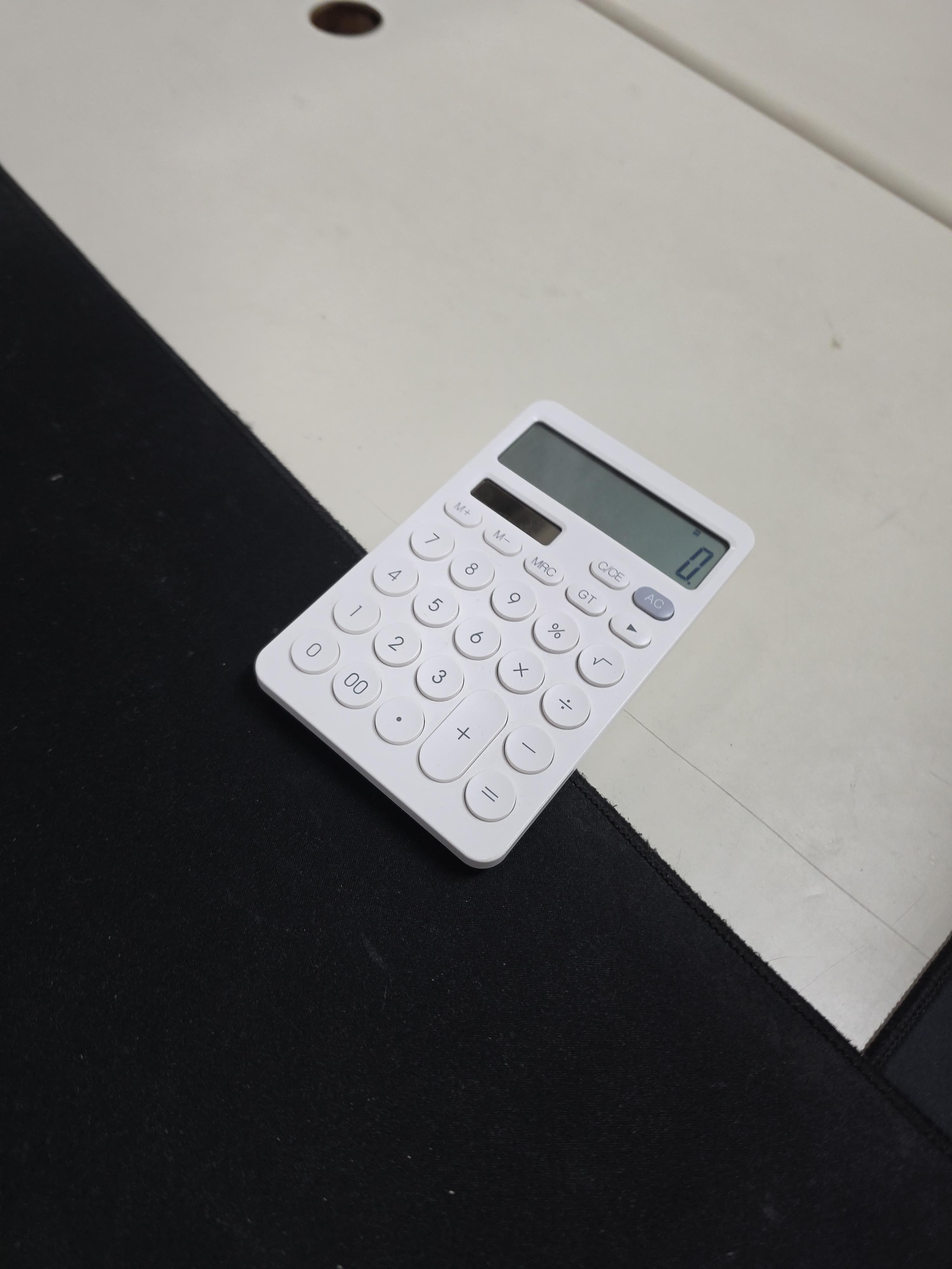calculator: (254, 400, 757, 869)
